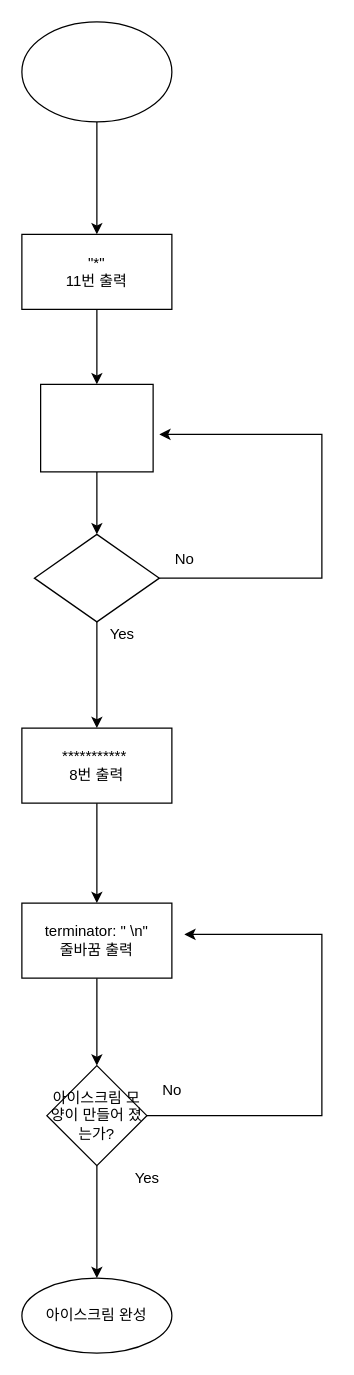
Image size: 354x1375. Some labels were removed from this diagram. The shapes that lost their labels are listed below. From the top down, each one's centre as x and y in pixels, then its label:
[96,71]: 시작 아이스크림 만들기
[96,427]: terminator: "" 출력
[96,577]: 출력된 값이 *********** 인가?
